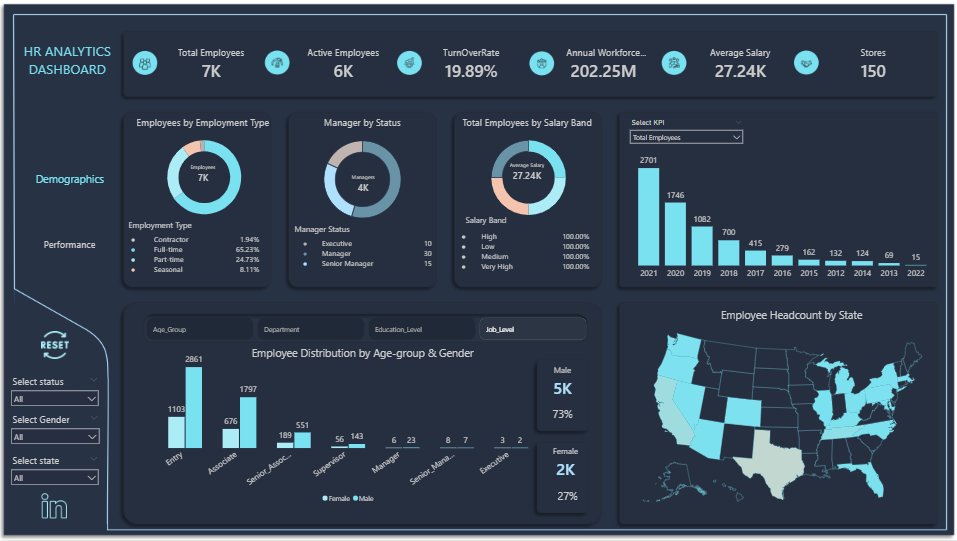

Layout of this report page (visuals, bound fields, positions):
{"tool":"powerbi","page":{"name":"Demographics","canvas":[1920,1080],"ordinal":0},"visuals":[{"type":"cardVisual","fields":{"Data":["Measure_Table.Active Employees"]},"box":[574.7,70,229.9,113.2],"z":0},{"type":"cardVisual","fields":{"Data":["Measure_Table.Total Employees"]},"box":[310.7,70,229.9,113.2],"z":1000},{"type":"cardVisual","fields":{"Data":["Measure_Table.TurnOverRate"]},"box":[829.8,70,229.9,113.2],"z":2000},{"type":"cardVisual","fields":{"Data":["Measure_Table.Annual Workforce Cost"]},"box":[1093.8,70,229.9,113.2],"z":3000},{"type":"cardVisual","fields":{"Data":["Measure_Table.Average Salary"]},"box":[1368.6,70,229.9,113.2],"z":4000},{"type":"cardVisual","fields":{"Data":["Measure_Table.Stores"]},"box":[1634.4,70,229.9,113.2],"z":5000},{"type":"cardVisual","fields":{"Data":["Measure_Table.Total Employees"]},"box":[335.7,312.9,144.3,67.1],"z":6000},{"type":"tableEx","fields":{"Values":["Measure_Table.Icon","employees.Employment_Type","Measure_Table.Total Employees"]},"box":[252.9,434.3,288.6,124.3],"z":7000},{"type":"textbox","box":[254.3,434.1,164,38.4],"z":8000},{"type":"donutChart","title":"Employees by Employment Type","fields":{"Y":["Measure_Table.Total Employees"],"Category":["employees.Employment_Type"]},"box":[270.5,232.1,281,219.9],"z":9000},{"type":"donutChart","title":"Manager by Status","fields":{"Category":["employees.Manager_Status"],"Y":["Measure_Table.Managers"]},"box":[582.9,232.9,290,228.6],"z":10000},{"type":"tableEx","fields":{"Values":["Measure_Table.Icon","employees.Manager_Status","Measure_Table.Managers"]},"box":[595.7,441.4,288.6,134.3],"z":11000},{"type":"textbox","box":[585.9,441.7,194.7,37.9],"z":12000},{"type":"cardVisual","fields":{"Data":["Measure_Table.Manager Count"]},"box":[657.1,330,141.4,71.4],"z":13000},{"type":"donutChart","title":"Total Employees by Salary Band","fields":{"Y":["Measure_Table.Total Employees"],"Category":["vw_salary_band.Salary_Band"]},"box":[921.6,232.1,274,221.7],"z":14000},{"type":"tableEx","title":"Salary band","fields":{"Values":["Measure_Table.Icon","vw_salary_band.Salary_Band","Measure_Table.Total Employees %"]},"box":[914,427.3,287.8,123.8],"z":15000},{"type":"cardVisual","fields":{"Data":["Measure_Table.Average Salary"]},"box":[980,300,152.9,84.3],"z":16000},{"type":"clusteredColumnChart","fields":{"Category":["employees.Job_Level"],"Series":["employees.Gender"],"Y":["Measure_Table.Total Employees"]},"box":[290,694.3,820,321.4],"z":17000},{"type":"advancedSlicerVisual","fields":{"Values":["Demographics 3.Demographics"]},"box":[289.5,629.7,893,55.8],"z":18000},{"type":"cardVisual","fields":{"Data":["Measure_Table.Male"]},"box":[1072.9,710,110,104.3],"z":19000},{"type":"cardVisual","fields":{"Data":["Measure_Table.Male %"]},"box":[1072.9,794.3,110,61.4],"z":20000},{"type":"cardVisual","fields":{"Data":["Measure_Table.Female"]},"box":[1077.1,872.9,110,104.3],"z":21000},{"type":"cardVisual","fields":{"Data":["Measure_Table.Female %"]},"box":[1081.4,957.1,110,61.4],"z":22000},{"type":"slicer","fields":{"Values":["KPI.KPI"]},"box":[1252.3,232,245.9,61],"z":23000},{"type":"shapeMap","fields":{"Value":["Measure_Table.Total Employees"],"Category":["employees.State"]},"box":[1252.3,629.7,629.7,409.9],"z":24000},{"type":"textbox","box":[1345.7,610,478.6,40],"z":25000},{"type":"textbox","box":[488.6,685.7,478.6,40],"z":26000},{"type":"slicer","title":"Select Status","fields":{"Values":["employees.Status"]},"box":[14,744.8,195.3,78.5],"z":27000},{"type":"slicer","title":"Select Status","fields":{"Values":["employees.State"]},"box":[14,901.7,195.3,78.5],"z":28000},{"type":"slicer","title":"Select Status","fields":{"Values":["employees.Gender"]},"box":[14.4,820.3,196.5,77.5],"z":29000},{"type":"pageNavigator","box":[30.6,293.9,223.5,257.8],"z":30000},{"type":"textbox","box":[33.1,78.5,205.8,102.9],"z":31000},{"type":"image","box":[76.7,985.5,69.8,51],"z":32000},{"type":"image","box":[75,662.8,71.5,55.8],"z":33000},{"type":"textbox","box":[928.5,423.7,165.9,37.9],"z":34000},{"type":"clusteredColumnChart","fields":{"Y":["Measure_Table.Total Employees"],"Category":["Calendar.Year"]},"box":[1252.3,293,629.7,272.1],"z":35000}]}

Visuals, with their boxes in screenshot pixels (x1, y1, x2, y2), scaled from the page's 1920x1080 canvas onto the 957x541 screenshot:
cardVisual - Measure_Table.Active Employees: [x1=286, y1=35, x2=401, y2=92]
cardVisual - Measure_Table.Total Employees: [x1=155, y1=35, x2=269, y2=92]
cardVisual - Measure_Table.TurnOverRate: [x1=414, y1=35, x2=528, y2=92]
cardVisual - Measure_Table.Annual Workforce Cost: [x1=545, y1=35, x2=660, y2=92]
cardVisual - Measure_Table.Average Salary: [x1=682, y1=35, x2=797, y2=92]
cardVisual - Measure_Table.Stores: [x1=815, y1=35, x2=929, y2=92]
cardVisual - Measure_Table.Total Employees: [x1=167, y1=157, x2=239, y2=190]
tableEx - Measure_Table.Icon x employees.Employment_Type: [x1=126, y1=218, x2=270, y2=280]
textbox: [x1=127, y1=217, x2=208, y2=237]
"Employees by Employment Type" donutChart: [x1=135, y1=116, x2=275, y2=226]
"Manager by Status" donutChart: [x1=291, y1=117, x2=435, y2=231]
tableEx - Measure_Table.Icon x employees.Manager_Status: [x1=297, y1=221, x2=441, y2=288]
textbox: [x1=292, y1=221, x2=389, y2=240]
cardVisual - Measure_Table.Manager Count: [x1=328, y1=165, x2=398, y2=201]
"Total Employees by Salary Band" donutChart: [x1=459, y1=116, x2=596, y2=227]
"Salary band" tableEx: [x1=456, y1=214, x2=599, y2=276]
cardVisual - Measure_Table.Average Salary: [x1=488, y1=150, x2=565, y2=193]
clusteredColumnChart - employees.Job_Level x employees.Gender: [x1=145, y1=348, x2=553, y2=509]
advancedSlicerVisual - Demographics 3.Demographics: [x1=144, y1=315, x2=589, y2=343]
cardVisual - Measure_Table.Male: [x1=535, y1=356, x2=590, y2=408]
cardVisual - Measure_Table.Male %: [x1=535, y1=398, x2=590, y2=429]
cardVisual - Measure_Table.Female: [x1=537, y1=437, x2=592, y2=490]
cardVisual - Measure_Table.Female %: [x1=539, y1=479, x2=594, y2=510]
slicer - KPI.KPI: [x1=624, y1=116, x2=747, y2=147]
shapeMap - Measure_Table.Total Employees x employees.State: [x1=624, y1=315, x2=938, y2=521]
textbox: [x1=671, y1=306, x2=909, y2=326]
textbox: [x1=244, y1=343, x2=482, y2=364]
"Select Status" slicer: [x1=7, y1=373, x2=104, y2=412]
"Select Status" slicer: [x1=7, y1=452, x2=104, y2=491]
"Select Status" slicer: [x1=7, y1=411, x2=105, y2=450]
pageNavigator: [x1=15, y1=147, x2=127, y2=276]
textbox: [x1=16, y1=39, x2=119, y2=91]
image: [x1=38, y1=494, x2=73, y2=519]
image: [x1=37, y1=332, x2=73, y2=360]
textbox: [x1=463, y1=212, x2=545, y2=231]
clusteredColumnChart - Measure_Table.Total Employees x Calendar.Year: [x1=624, y1=147, x2=938, y2=283]
